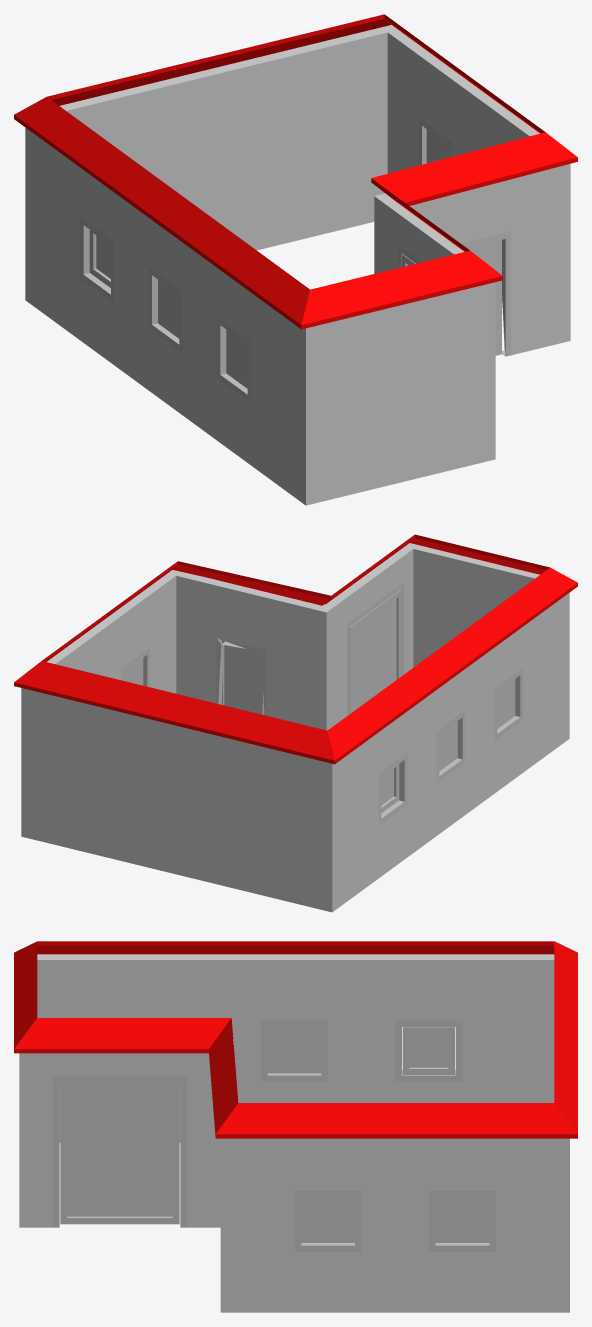
Rendered from house.dae.
The picture shows the model from 3 angles, top to bottom: view 1: azimuth 30°, elevation 25°; view 2: azimuth 150°, elevation 25°; view 3: azimuth 270°, elevation 25°; orthographic projection. The views are drawn at different scales.
Visible parts, largest first — view 1: node0, node8, node3, node5, node6, node7, node2; view 2: node0, node8, node4, node3, node6, node5, node7, node1; view 3: node0, node8, node4, node5, node6, node1, node2.
Boxes of the visible parts, <box> form: node0: <box>25,25,570,505</box>; node8: <box>14,14,577,329</box>; node3: <box>461,231,511,356</box>; node5: <box>80,216,114,302</box>; node6: <box>148,267,182,352</box>; node7: <box>217,317,251,403</box>; node2: <box>418,117,452,165</box>; node0: <box>21,543,569,912</box>; node8: <box>14,534,577,764</box>; node4: <box>347,582,404,715</box>; node3: <box>216,638,266,715</box>; node6: <box>436,710,465,783</box>; node5: <box>378,752,407,825</box>; node7: <box>494,668,523,740</box>; node1: <box>121,647,149,687</box>; node0: <box>19,954,569,1312</box>; node8: <box>14,941,577,1138</box>; node4: <box>53,1075,186,1227</box>; node5: <box>395,1020,462,1081</box>; node6: <box>261,1020,327,1081</box>; node1: <box>294,1191,361,1251</box>; node2: <box>429,1191,495,1251</box>.
Bounding box in the file's own units: 0.0064 × 0.0084 × 0.00332.
